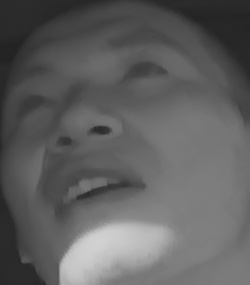eye: (121, 57, 170, 87), (12, 91, 55, 118)
mouth: (45, 159, 150, 223)
